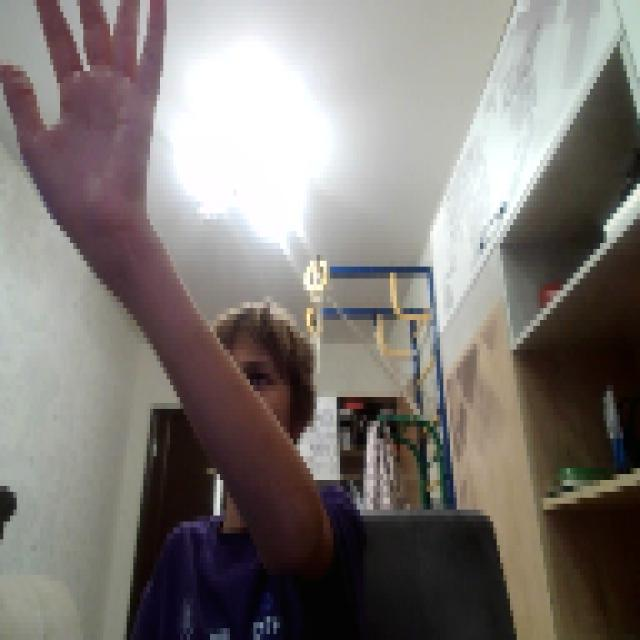hand: (0, 0, 163, 249)
